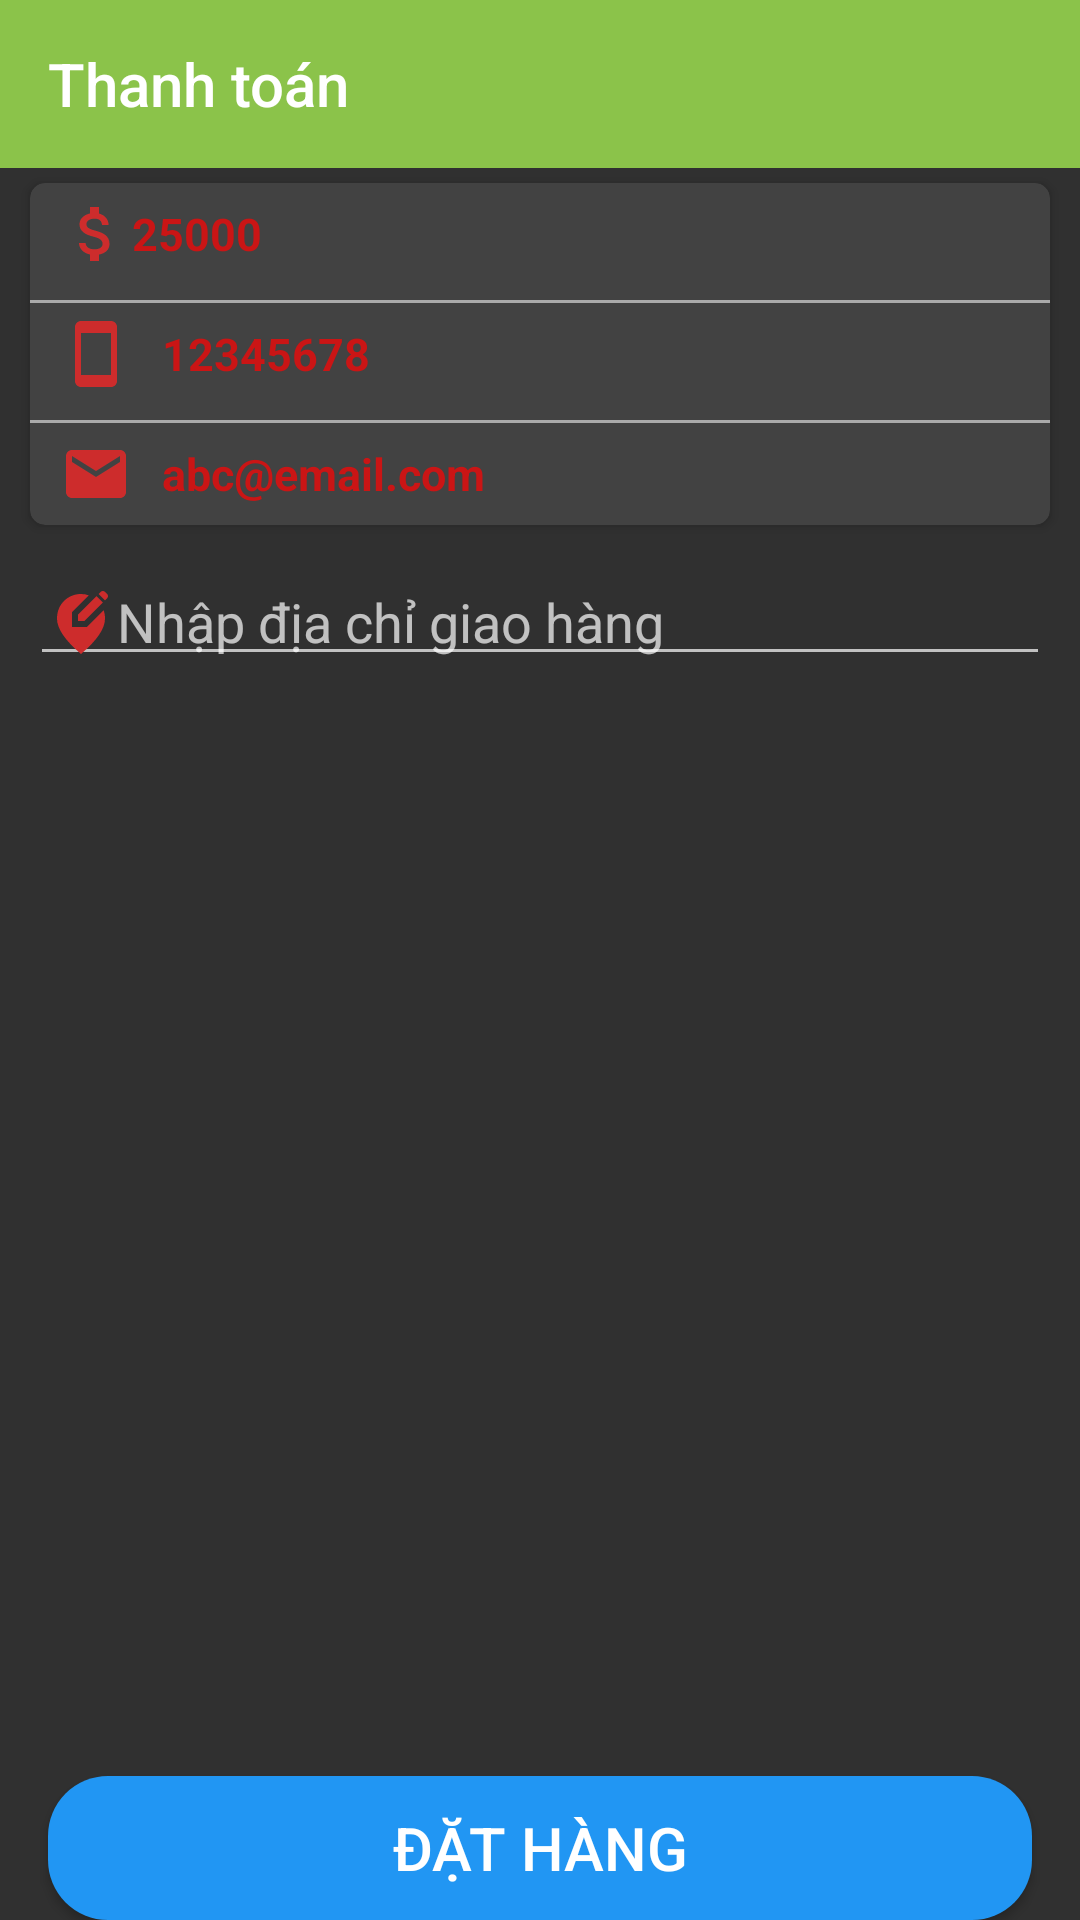

Icon click points for this 1080 x 1920 phone screenshot, format point (x, y):
money: point (94, 234)
smartphone: point (96, 354)
